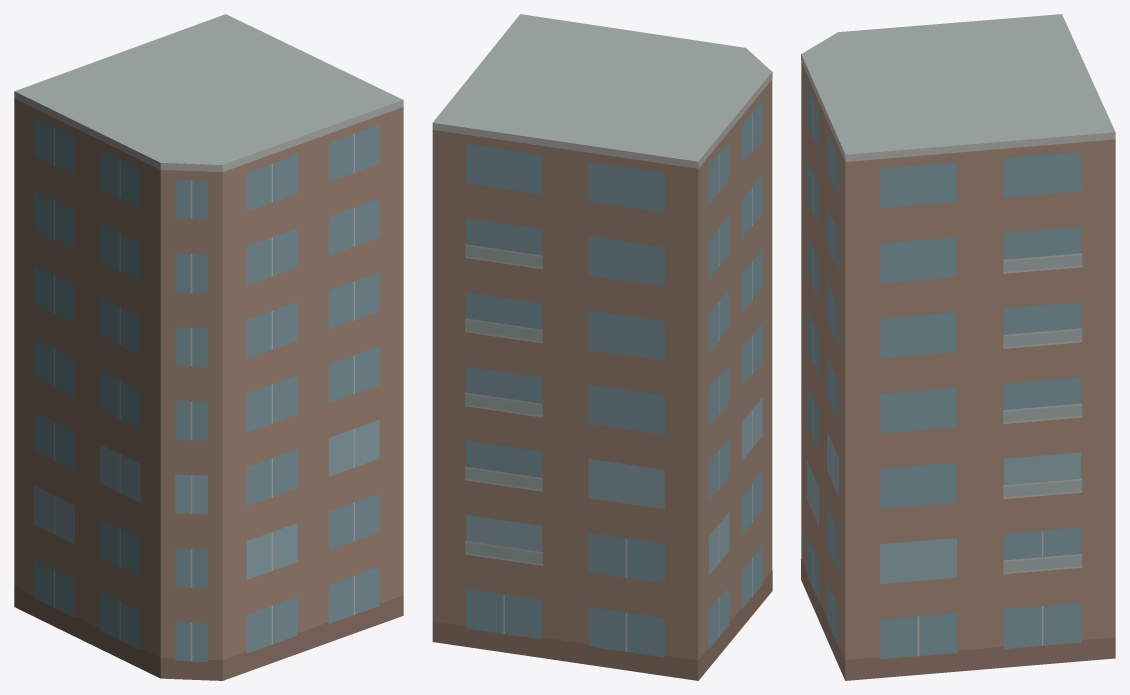
Rendered from survey-upis-32708965.glb.
3 renders of one model, left to right at view 1: azimuth 30°, elevation 25°; view 2: azimuth 150°, elevation 25°; view 3: azimuth 270°, elevation 25°, orthographic.
Parts seen in each view (by area): view 1: survey-upis-32708965.tmp; view 2: survey-upis-32708965.tmp; view 3: survey-upis-32708965.tmp.
Boxes of the visible parts, x1,y1,x2,y2 form: survey-upis-32708965.tmp: (14, 14, 403, 680); survey-upis-32708965.tmp: (432, 14, 772, 680); survey-upis-32708965.tmp: (801, 14, 1115, 680).
Size of the model in its own units: 10.35 by 18 by 9.76.
